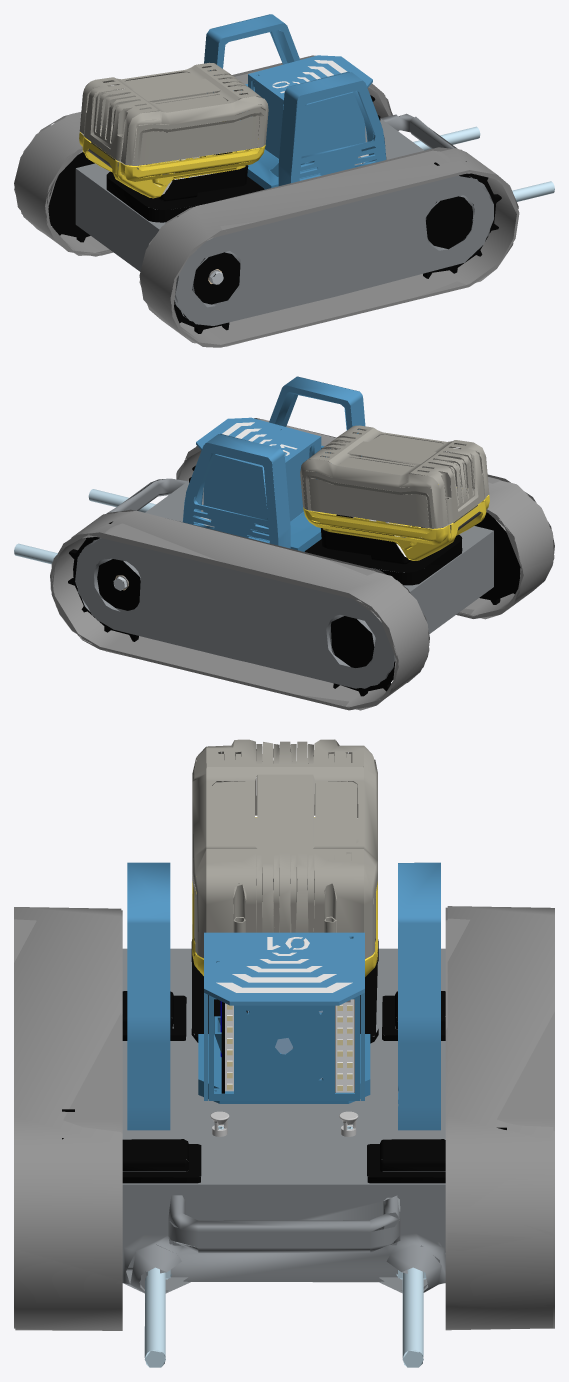
The model's file is robot-main.glb.
The picture shows the model from 3 angles, top to bottom: view 1: azimuth 30°, elevation 25°; view 2: azimuth 150°, elevation 25°; view 3: azimuth 270°, elevation 25°; orthographic projection. The views are drawn at different scales.
Parts seen in each view (by area): view 1: Part 1 (×8), TrackCoverOutter, Body012, Cover HAT, New Top Mount Right, chassis box, wheel original 3dp (×2), New Top Mount Left, free wheel 3dp, Chassis Cover v1.5, base U mount re-des; view 2: Part 1 (×8), TrackCoverOutter (×2), Body012, Cover HAT, New Top Mount Left, chassis box, free wheel 3dp (×2), New Top Mount Right, wheel original 3dp, Chassis Cover v1.5, base U mount re-des; view 3: Part 1 (×8), Body012, chassis box, Chassis Cover v1.5, New Top Mount Right, New Top Mount Left, Cover HAT, Molex antenna (×4), LED (×2), base U mount re-des, Part 2.
Boxes of the visible parts, x1=… form: Part 1 (×8): x1=14, y1=55, x2=554, y2=347; TrackCoverOutter: x1=174, y1=175, x2=493, y2=325; Body012: x1=79, y1=62, x2=268, y2=198; Cover HAT: x1=248, y1=55, x2=372, y2=159; New Top Mount Right: x1=278, y1=71, x2=386, y2=185; chassis box: x1=75, y1=113, x2=456, y2=271; wheel original 3dp (×2): x1=48, y1=152, x2=501, y2=278; New Top Mount Left: x1=204, y1=14, x2=299, y2=120; free wheel 3dp: x1=174, y1=252, x2=240, y2=333; Chassis Cover v1.5: x1=75, y1=118, x2=423, y2=231; base U mount re-des: x1=243, y1=149, x2=319, y2=189; Part 1 (×8): x1=14, y1=418, x2=554, y2=710; TrackCoverOutter (×2): x1=75, y1=538, x2=395, y2=688; Body012: x1=300, y1=425, x2=489, y2=560; Cover HAT: x1=196, y1=417, x2=321, y2=521; New Top Mount Left: x1=182, y1=433, x2=290, y2=548; chassis box: x1=106, y1=478, x2=493, y2=633; free wheel 3dp (×2): x1=68, y1=512, x2=520, y2=641; New Top Mount Right: x1=269, y1=376, x2=365, y2=457; wheel original 3dp: x1=331, y1=616, x2=395, y2=696; Chassis Cover v1.5: x1=145, y1=480, x2=493, y2=593; base U mount re-des: x1=249, y1=512, x2=321, y2=551; Part 1 (×8): x1=14, y1=906, x2=554, y2=1367; Body012: x1=192, y1=739, x2=377, y2=976; chassis box: x1=122, y1=1189, x2=445, y2=1293; Chassis Cover v1.5: x1=122, y1=948, x2=445, y2=1189; New Top Mount Right: x1=127, y1=862, x2=170, y2=1130; New Top Mount Left: x1=398, y1=862, x2=440, y2=1130; Cover HAT: x1=204, y1=932, x2=364, y2=1100; Molex antenna (×4): x1=122, y1=991, x2=445, y2=1183; LED (×2): x1=221, y1=999, x2=354, y2=1093; base U mount re-des: x1=198, y1=1016, x2=370, y2=1103; Part 2: x1=216, y1=982, x2=352, y2=992.
Bounding box in the file's own units: 0.3924 × 0.179 × 0.2518.
